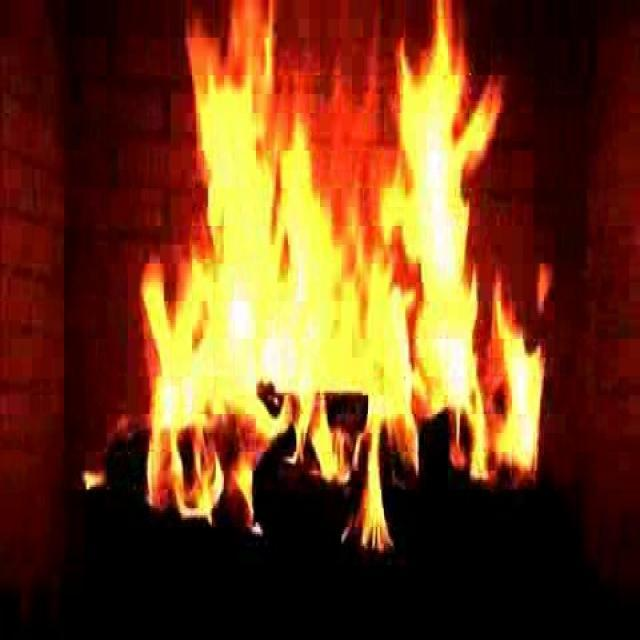Fire: (122, 0, 588, 544)
